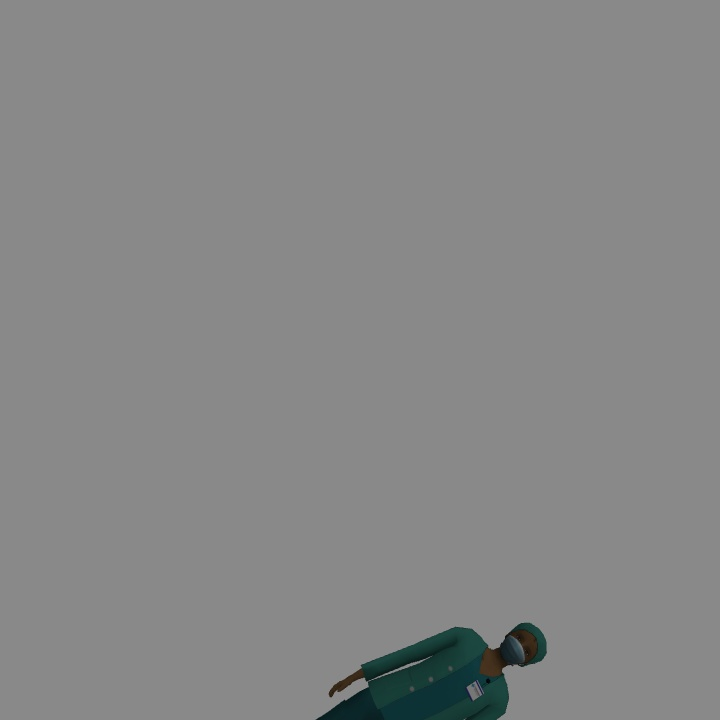victim: (321, 621, 549, 718)
